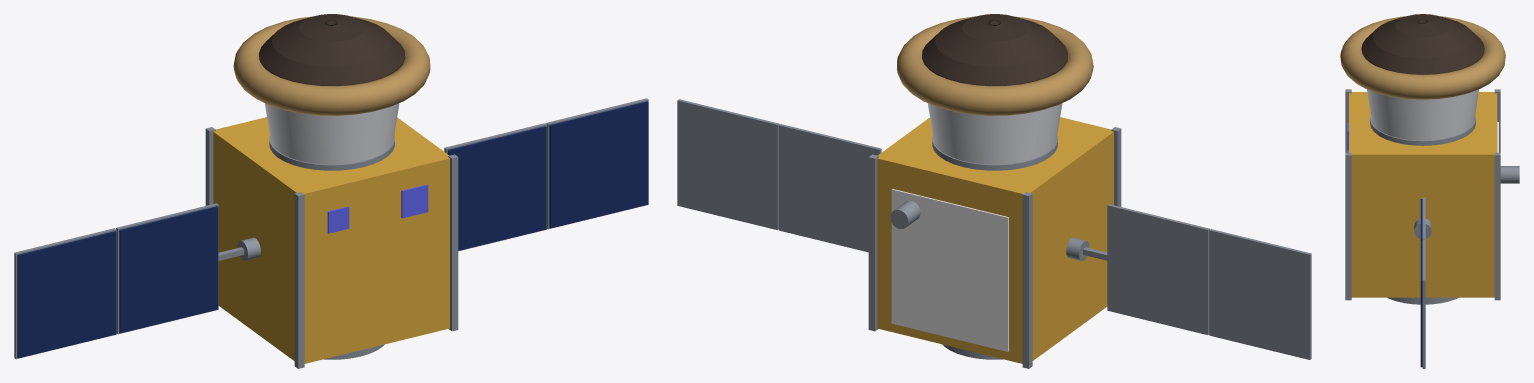
Rendered from SP-CHIP.glb.
3 views of the same model, side by side, from view 1: azimuth 30°, elevation 25°; view 2: azimuth 150°, elevation 25°; view 3: azimuth 270°, elevation 25° (orthographic). The views are drawn at different scales.
Parts seen in each view (by area): view 1: service_module_structure, solar_panel_-X2, solar_panel_-X1, solar_panel_+X2, solar_panel_+X1, nose, heat_shield_packed, capsule_backshell, corner_rail_-X-Y, corner_rail_+X-Y, panel_frame_-X2, panel_frame_-X1 (+6 smaller); view 2: service_module_structure, radiator_+Y_face, panel_frame_-X2, panel_frame_-X1, panel_frame_+X2, panel_frame_+X1, nose, heat_shield_packed, capsule_backshell, corner_rail_-X+Y, corner_rail_+X+Y, separation_interface (+2 smaller); view 3: service_module_structure, nose, heat_shield_packed, capsule_backshell, corner_rail_+X-Y, corner_rail_+X+Y, separation_interface, panel_frame_+X2, launch_separation_ring, solar_panel_+X2, star_tracker, corner_rail_-X-Y (+3 smaller).
Part boxes in pixels (box(x1,y1,x2,y2)): service_module_structure: box(213, 117, 449, 363); solar_panel_-X2: box(17, 231, 116, 358); solar_panel_-X1: box(119, 206, 218, 333); solar_panel_+X2: box(549, 101, 648, 228); solar_panel_+X1: box(447, 126, 546, 250); nose: box(259, 14, 405, 85); heat_shield_packed: box(233, 16, 430, 115); capsule_backshell: box(265, 103, 399, 164); corner_rail_-X-Y: box(294, 192, 304, 368); corner_rail_+X-Y: box(448, 154, 458, 331); panel_frame_-X2: box(14, 228, 116, 359); panel_frame_-X1: box(116, 203, 218, 334); service_module_structure: box(877, 117, 1113, 363); radiator_+Y_face: box(891, 189, 1008, 351); panel_frame_-X2: box(1209, 229, 1311, 359); panel_frame_-X1: box(1107, 204, 1209, 334); panel_frame_+X2: box(677, 99, 779, 230); panel_frame_+X1: box(779, 124, 881, 252); nose: box(922, 14, 1068, 86); heat_shield_packed: box(897, 16, 1093, 115); capsule_backshell: box(928, 103, 1062, 164); corner_rail_-X+Y: box(1022, 192, 1032, 368); corner_rail_+X+Y: box(868, 154, 878, 331); separation_interface: box(932, 135, 1057, 170); service_module_structure: box(1349, 92, 1497, 297); nose: box(1361, 14, 1484, 74); heat_shield_packed: box(1340, 16, 1505, 99); capsule_backshell: box(1367, 89, 1478, 140); corner_rail_+X-Y: box(1345, 152, 1351, 300); corner_rail_+X+Y: box(1494, 152, 1500, 300); separation_interface: box(1370, 116, 1475, 145); panel_frame_+X2: box(1422, 239, 1425, 368); launch_separation_ring: box(1387, 297, 1458, 304); solar_panel_+X2: box(1420, 241, 1422, 367); star_tracker: box(1500, 166, 1519, 183); corner_rail_-X-Y: box(1345, 89, 1351, 152).
Bounding box in the file's own units: 2.45 × 1.16 × 0.716.
